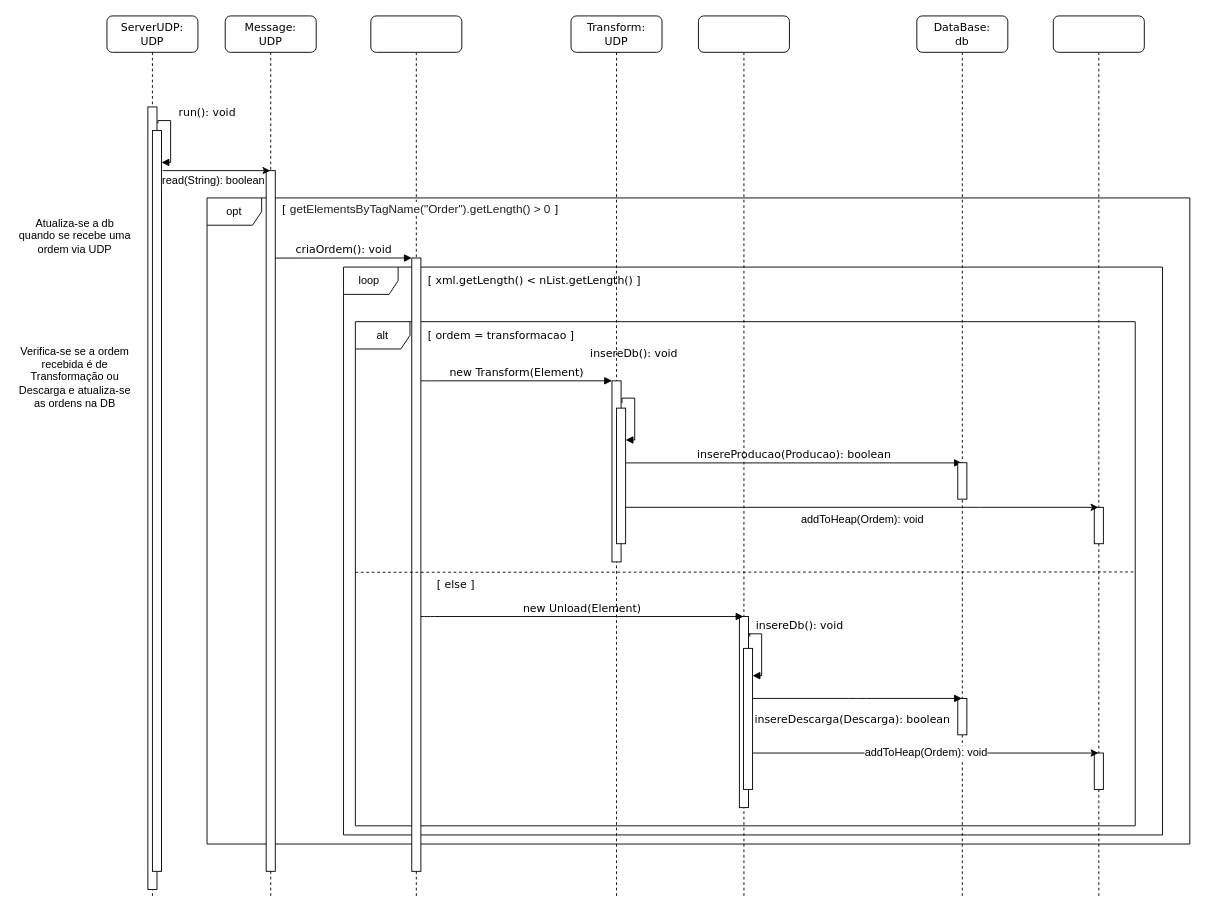
Some shapes in this 1206 by 915 pixel diagram are drawn without their labels. The shapes that lost their labels are listed below. From the top down, each one's box as (x1, y1, x2, y2) in pixels, then its label:
(370, 15, 462, 899): Ordem: UDP
(698, 15, 789, 899): Unload: UDP
(1052, 15, 1144, 899): Fabrica: fabrica
